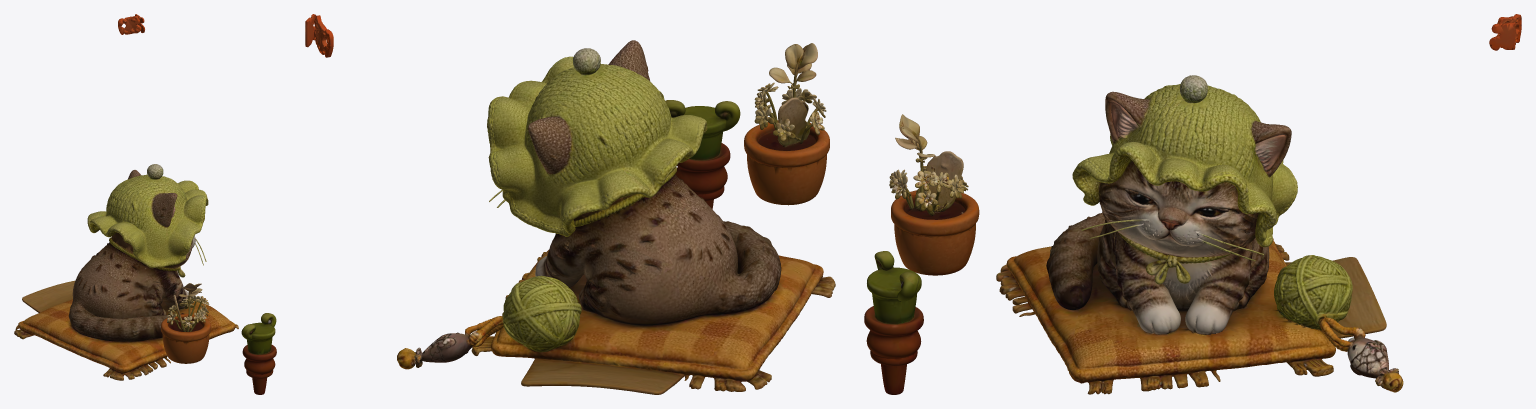
The model's file is cat-lock.glb.
3 renders of one model, left to right at view 1: azimuth 30°, elevation 25°; view 2: azimuth 150°, elevation 25°; view 3: azimuth 270°, elevation 25°, orthographic. The views are drawn at different scales.
Parts seen in each view (by area): view 1: tripo_node_fb9abf35-28dc-49ec-b900-5d228a899d96; view 2: tripo_node_fb9abf35-28dc-49ec-b900-5d228a899d96; view 3: tripo_node_fb9abf35-28dc-49ec-b900-5d228a899d96.
Boxes of the visible parts, x1,y1,x2,y2 form: tripo_node_fb9abf35-28dc-49ec-b900-5d228a899d96: (14,14,276,394); tripo_node_fb9abf35-28dc-49ec-b900-5d228a899d96: (305,14,835,394); tripo_node_fb9abf35-28dc-49ec-b900-5d228a899d96: (864,14,1521,394).
Bounding box in the file's own units: 0.5907 × 0.6853 × 0.9799.
1 material, 1 textured.
